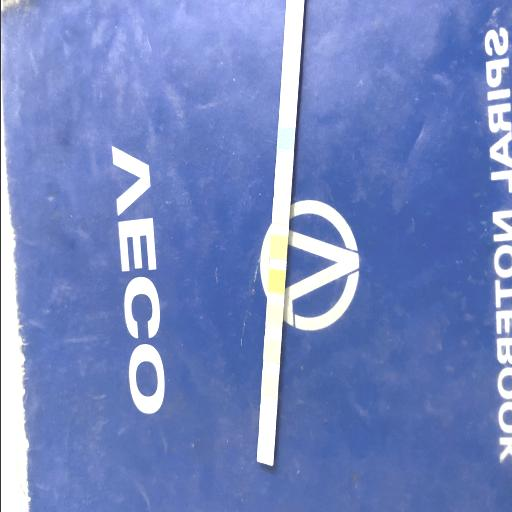Bilirubin: (274, 164, 290, 186)
Blood: (268, 270, 284, 292)
Glucose: (278, 127, 292, 151)
Ketone: (272, 200, 288, 222)
Leukocytes: (257, 442, 273, 462)
Nitrite: (259, 408, 275, 428)
Protein: (264, 340, 280, 360)
SpGravity: (270, 236, 286, 258)
Urobilinogen: (261, 373, 277, 393)
pH: (266, 306, 282, 326)
strip: (255, 0, 303, 466)
